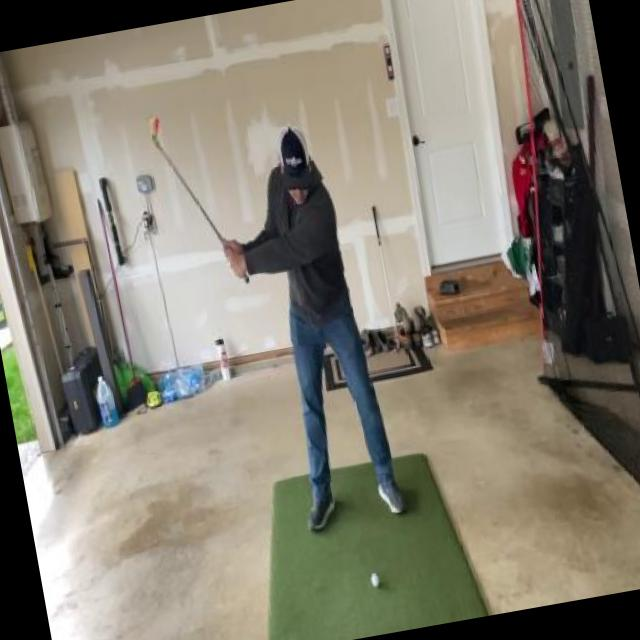club head: (144, 114, 164, 152)
